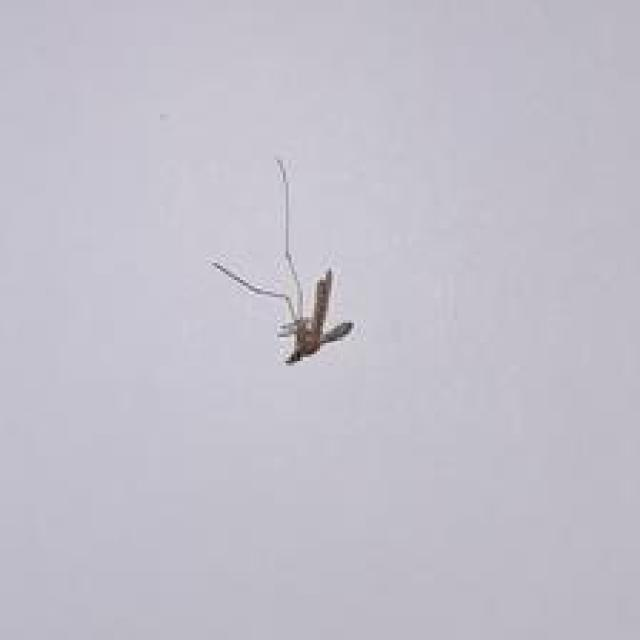Culex: (210, 157, 356, 366)
